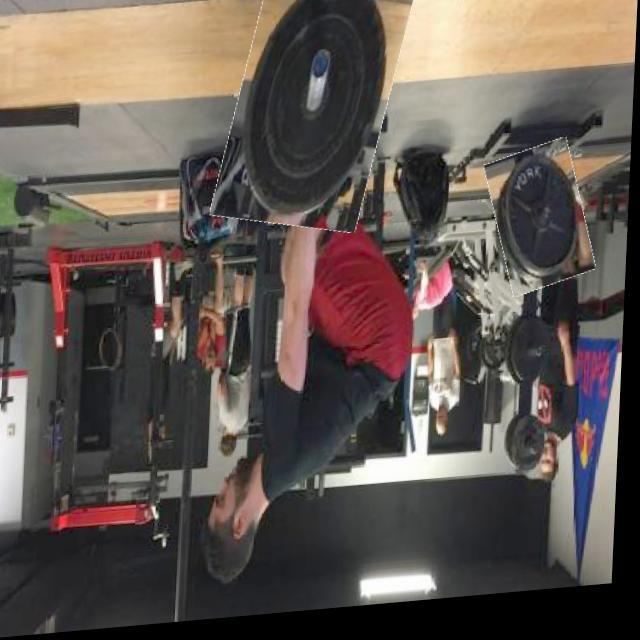barbell: (224, 1, 408, 244), (490, 150, 596, 305)
